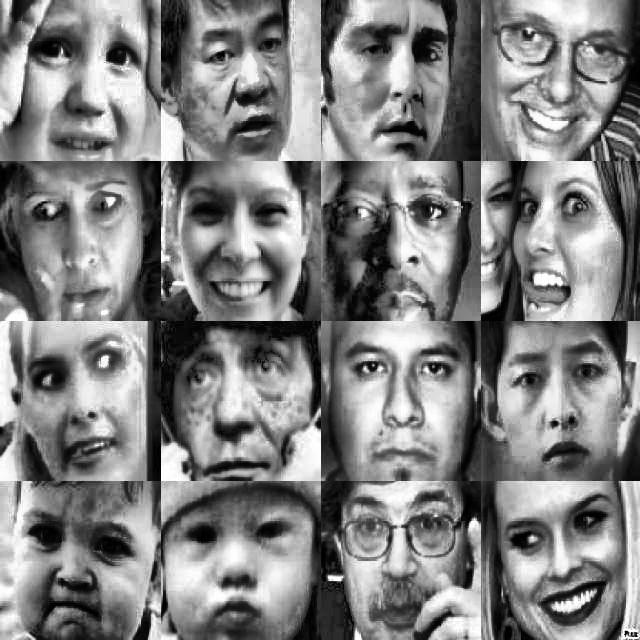angry: (489, 328, 623, 474), (166, 11, 303, 153)
fear: (15, 5, 153, 154), (16, 177, 142, 314), (18, 339, 141, 476)
happy: (494, 489, 640, 640), (5, 498, 151, 640), (326, 175, 460, 319), (491, 14, 628, 152), (171, 179, 303, 319), (510, 174, 624, 320)
neutral: (166, 501, 307, 640), (169, 326, 303, 470), (344, 492, 468, 640), (343, 331, 469, 474)
sad: (334, 14, 458, 148)
